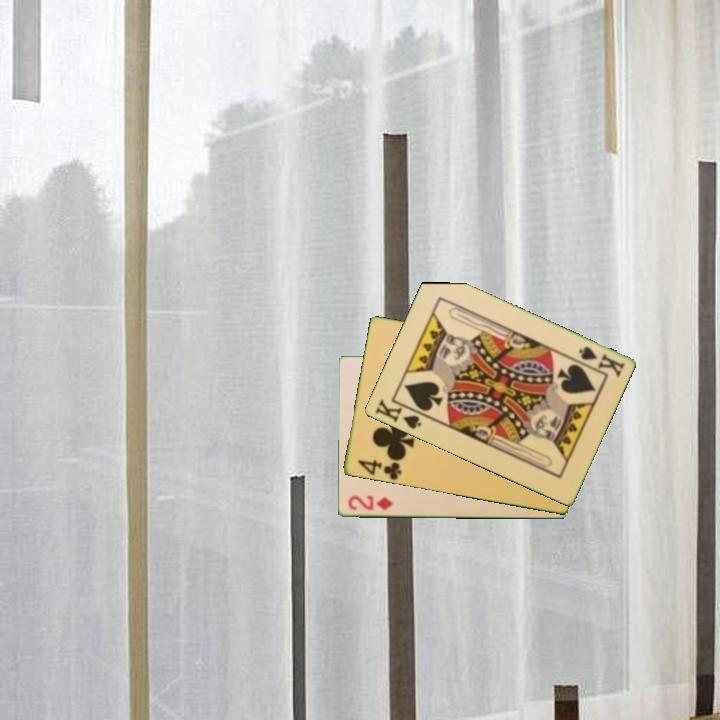2d: (344, 492, 396, 514)
4c: (354, 456, 404, 482)
Ks: (371, 395, 429, 432), (575, 343, 627, 380)
